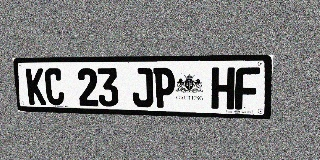2: (77, 68, 98, 106)
3: (97, 68, 118, 107)
C: (44, 68, 65, 105)
F: (235, 67, 260, 110)
H: (211, 67, 235, 109)
J: (132, 68, 153, 107)
K: (25, 68, 46, 105)
P: (153, 68, 175, 108)
